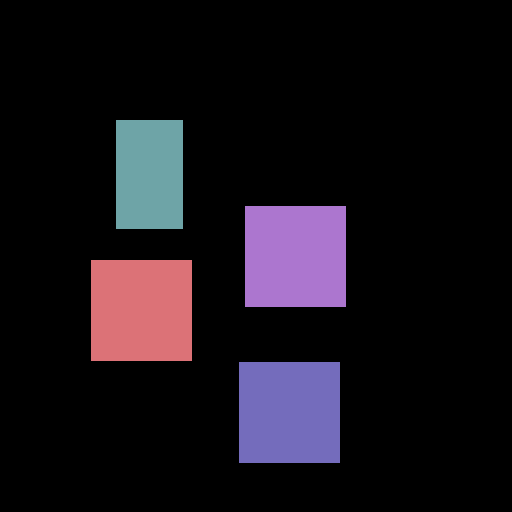rectangle: (116, 120, 182, 228)
square: (239, 362, 339, 462), (91, 260, 191, 360), (245, 206, 345, 306)
